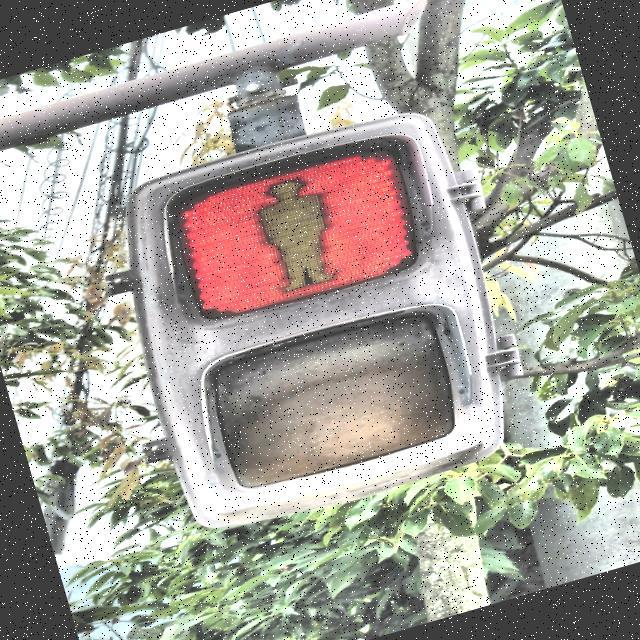red_light: (238, 163, 350, 300)
